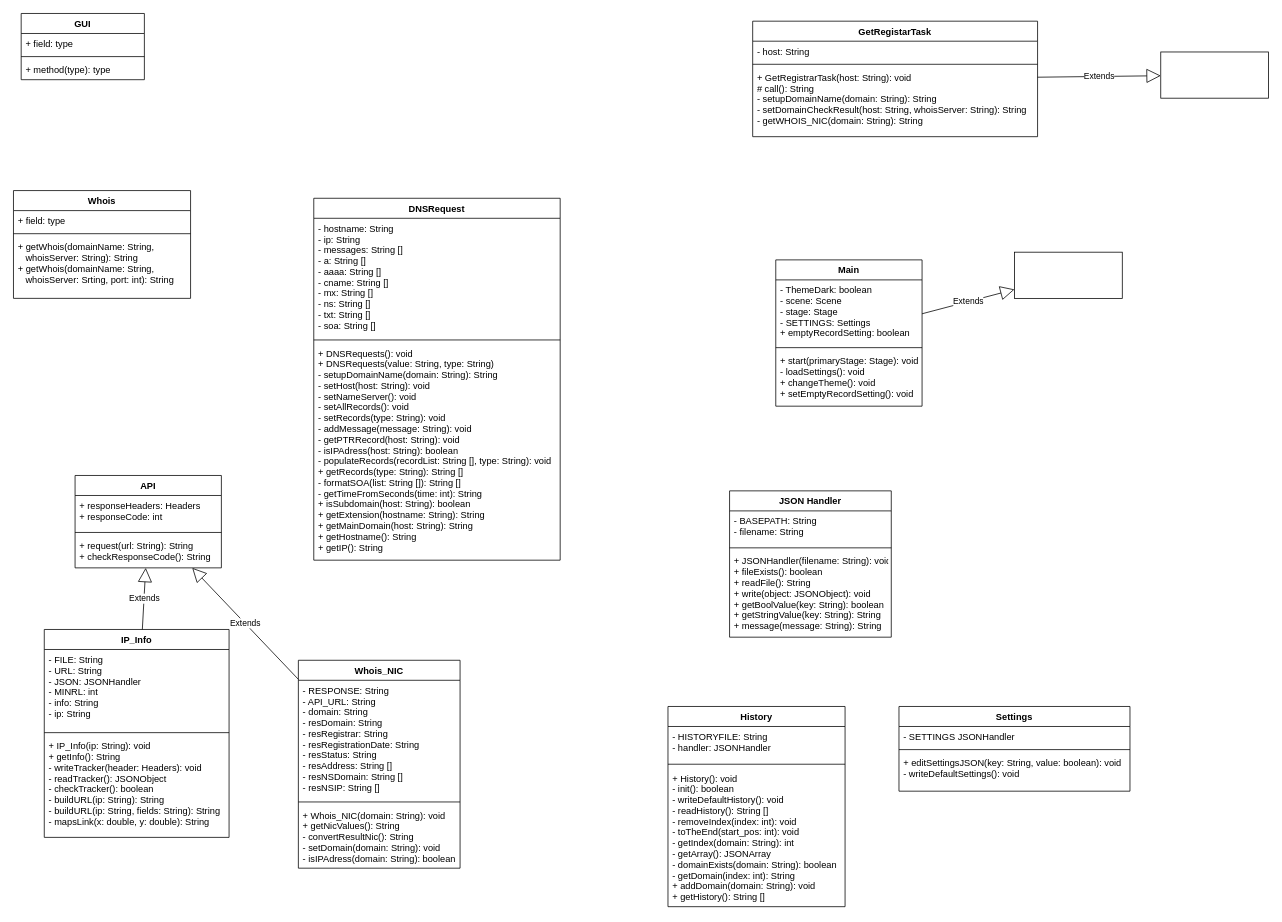
The diagram is 1282 pixels wide and 922 high, and some of its shapes have lost their labels. Each missing label, with the centre of its shape:
Application: point (1068, 274)
Task: point (1214, 74)
